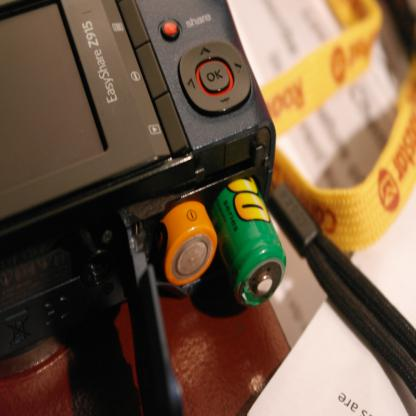Camera: (1, 1, 291, 416)
